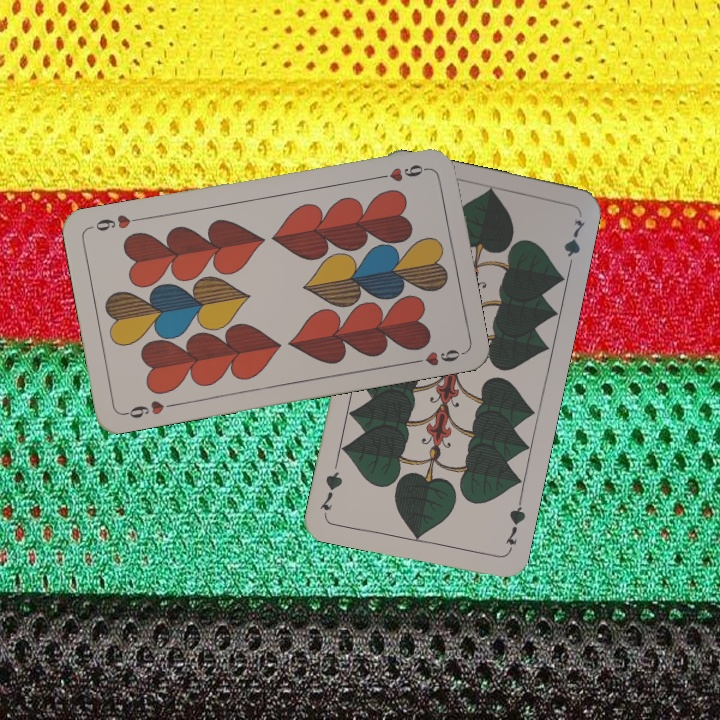G7: (501, 496, 529, 554)
H9: (120, 396, 179, 421), (372, 160, 431, 185)
